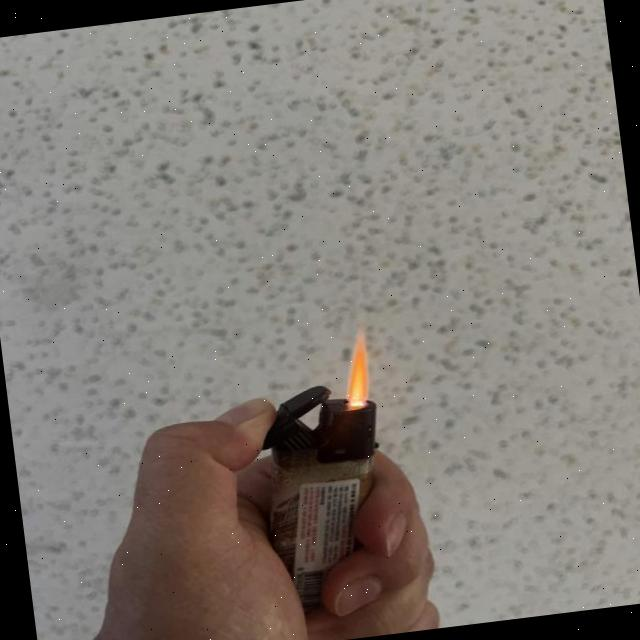fire: (340, 336, 374, 406)
